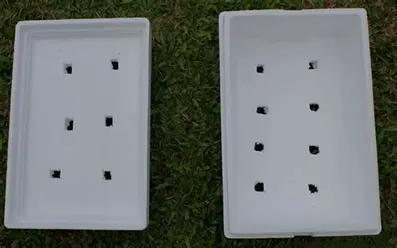ROAD_OBSTACLE: (218, 8, 382, 236), (5, 18, 150, 230)
